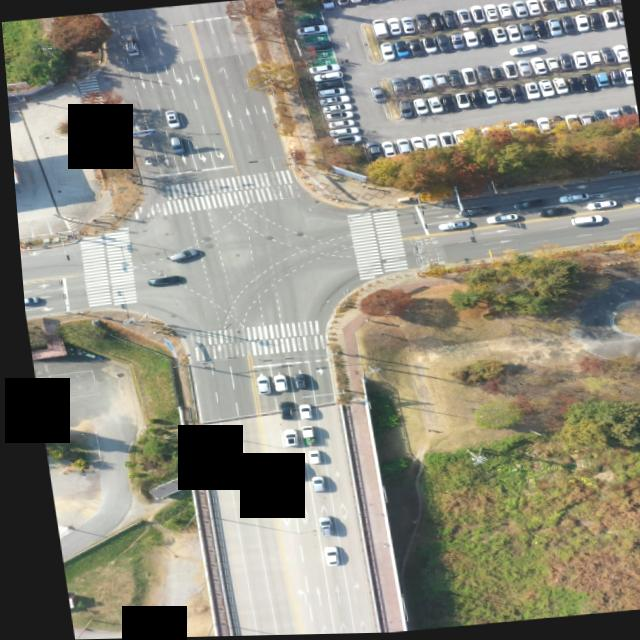car: (503, 45, 538, 61), (369, 21, 385, 41)
small_truck: (119, 34, 139, 57), (291, 427, 305, 445)
